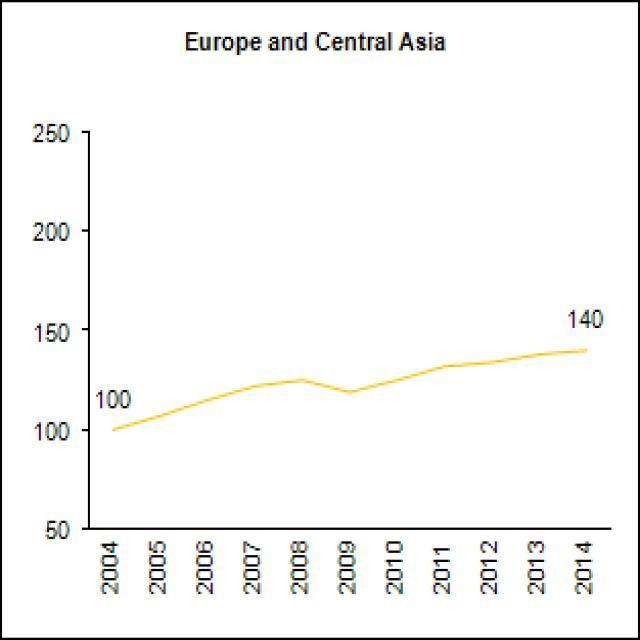axis: (73, 125, 96, 537), (74, 519, 623, 535)
line: (111, 345, 590, 434)
